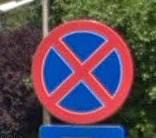oprirea_interzisa: (30, 18, 136, 124)
